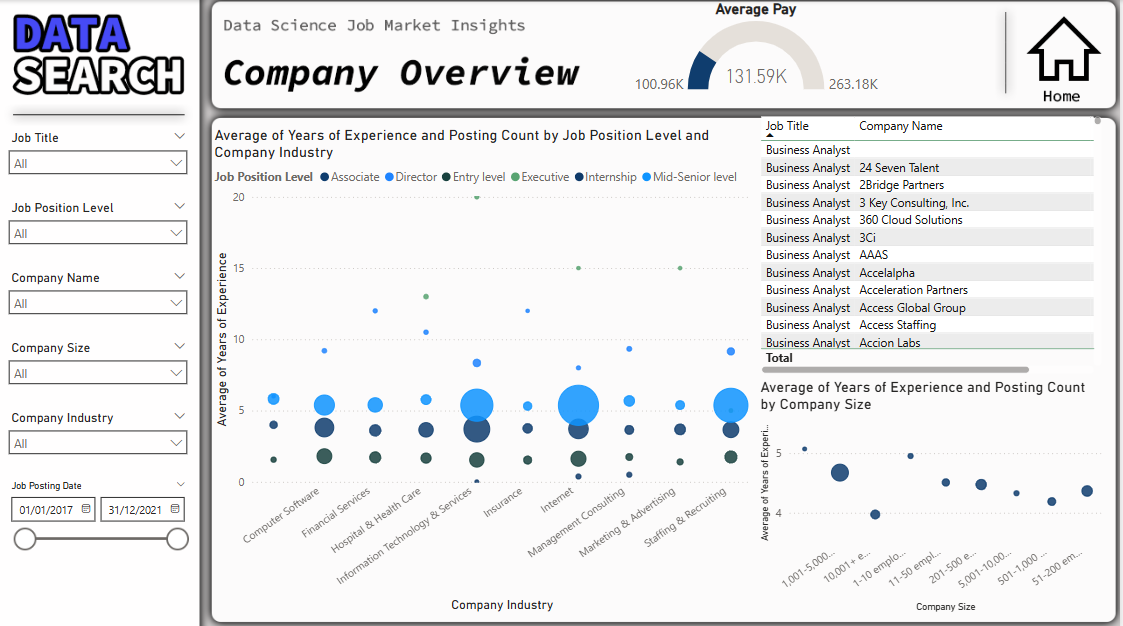

The dashboard page shown, as its layout file describes it:
{"tool":"powerbi","page":{"name":"Company","canvas":[1280,720],"ordinal":3},"visuals":[{"type":"slicer","fields":{"Values":["Job Postings.Job Title"]},"box":[0,144,224,80],"z":0},{"type":"slicer","fields":{"Values":["Job Postings.Job Position Level"]},"box":[0,224,224,80],"z":1},{"type":"slicer","fields":{"Values":["Job Postings.Company Name"]},"box":[0,304,224,80],"z":2},{"type":"slicer","fields":{"Values":["Job Postings.Company Size"]},"box":[0,384,224,80],"z":3},{"type":"slicer","fields":{"Values":["Job Postings.Company Industry"]},"box":[0,464,224,80],"z":4},{"type":"slicer","fields":{"Values":["Job Postings.Job Posting Date"]},"box":[0,544,224,112],"z":5},{"type":"scatterChart","fields":{"Y":["Avg(Job Postings.Years of Experience)"],"X":["Job Postings.Company Industry"],"Size":["_Measures.Posting Count"],"Series":["Job Postings.Job Position Level"]},"box":[240,144,624,560],"z":6},{"type":"tableEx","fields":{"Values":["Job Postings.Job Title","Job Postings.Company Name","_Measures.Posting Count"]},"box":[864,128,400,304],"z":7},{"type":"scatterChart","fields":{"Size":["_Measures.Posting Count"],"Y":["Avg(Job Postings.Years of Experience)"],"X":["Job Postings.Company Size"]},"box":[864,432,400,272],"z":8},{"type":"gauge","title":"Average Pay","fields":{"Y":["Avg(Job Postings.Maximum Pay)"],"MinValue":["Avg(Job Postings.Minimum Pay)"]},"box":[640,0,448,112],"z":9},{"type":"image","box":[1168,0,96,112],"z":10}]}

Visuals, with their boxes in screenshot pixels (x1, y1, x2, y2), scaled from the page's 1280x720 canvas onto the 1123x626 screenshot:
slicer - Job Postings.Job Title: 0 125 197 195
slicer - Job Postings.Job Position Level: 0 195 197 264
slicer - Job Postings.Company Name: 0 264 197 334
slicer - Job Postings.Company Size: 0 334 197 403
slicer - Job Postings.Company Industry: 0 403 197 473
slicer - Job Postings.Job Posting Date: 0 473 197 570
scatterChart - Avg(Job Postings.Years of Experience) x Job Postings.Company Industry: 211 125 758 612
tableEx - Job Postings.Job Title x Job Postings.Company Name: 758 111 1109 376
scatterChart - _Measures.Posting Count x Avg(Job Postings.Years of Experience): 758 376 1109 612
"Average Pay" gauge: 562 0 955 97
image: 1025 0 1109 97
